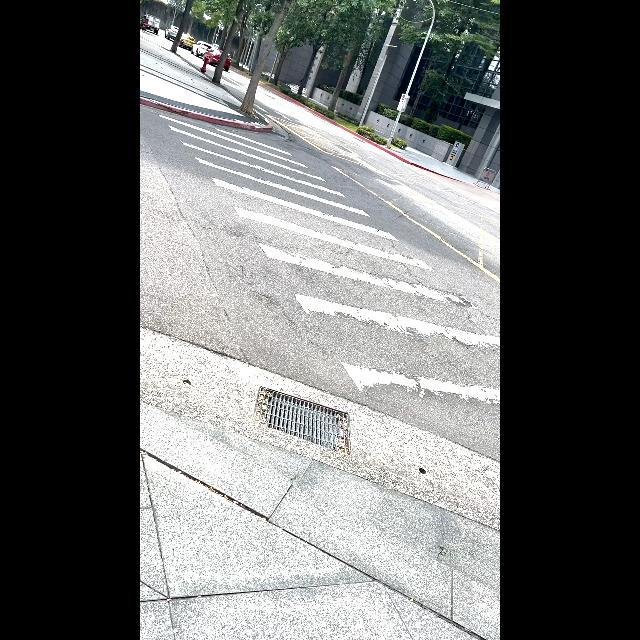sidewalk: (159, 110, 500, 464)
